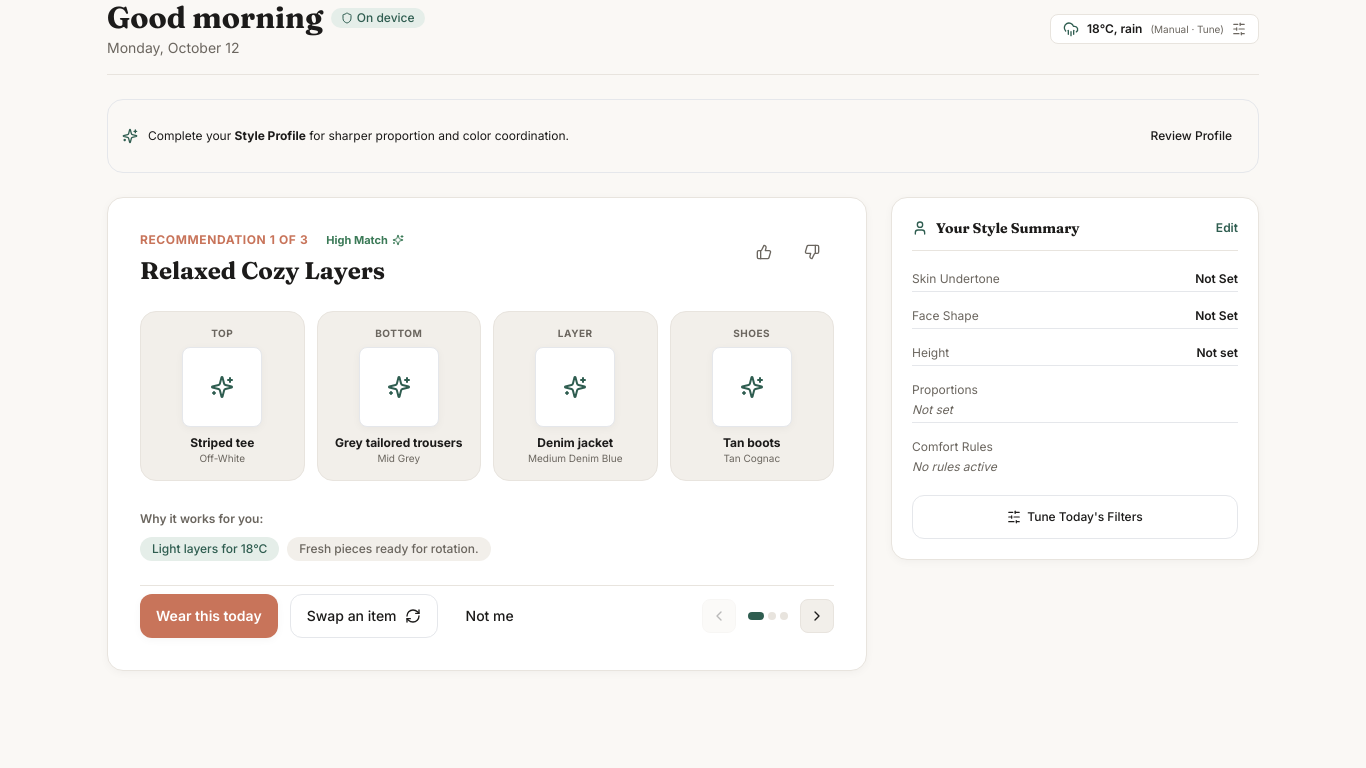
Test: Phase 5: Today Screen & Recommendation Flows › opens Tune Picks sheet and updates weather/occasion criteria
Expected: the text "18°C, rain" is shown, [1087,21,1142,37]
Click the button "18°C, rain (Manual · Tune)": coordinates (1154, 29) [1050,14,1259,44]
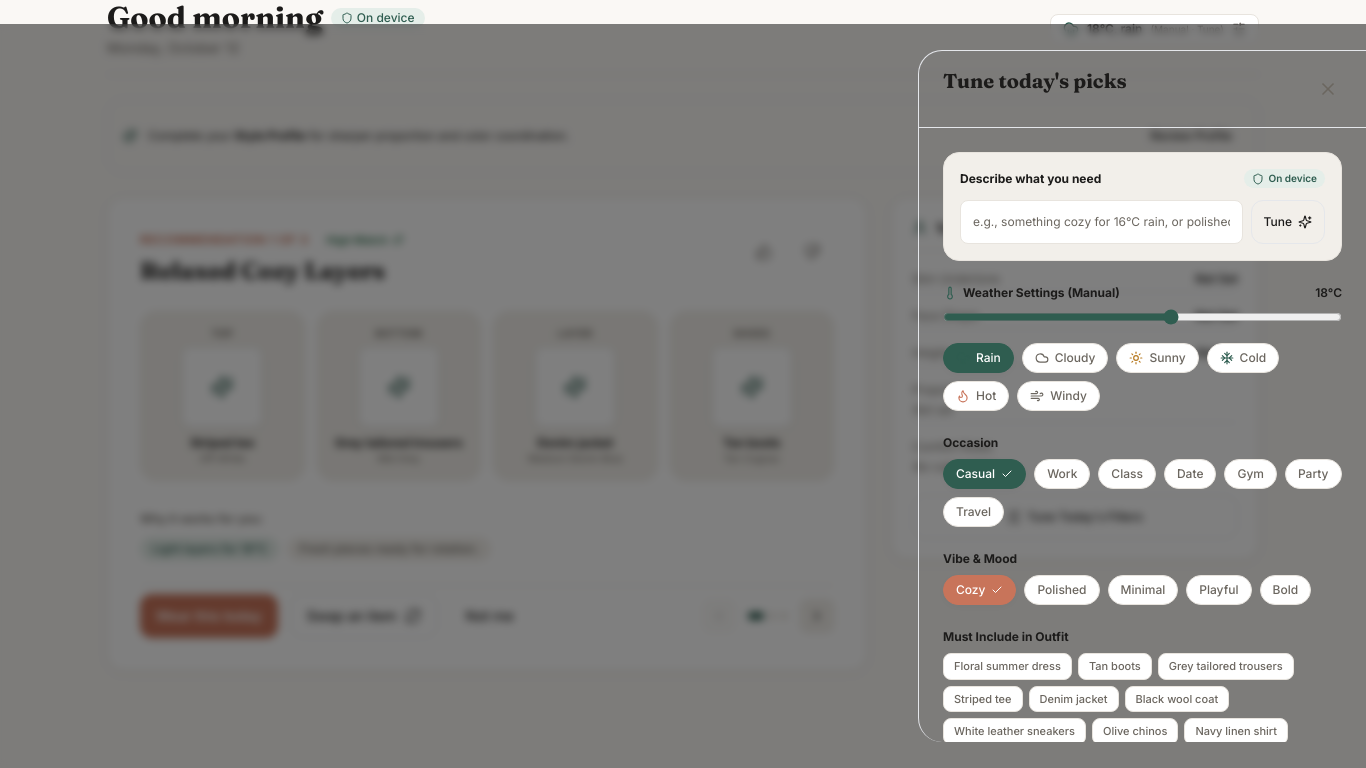
Expected: the heading "Tune today's picks" is shown, [943,67,1127,95]
Expected: the text "Describe what you need" is shown, [960,171,1101,187]
// Change to Sunny
Click the button "Sunny": coordinates (1158, 358) [1116,343,1199,373]
(page scrolled)
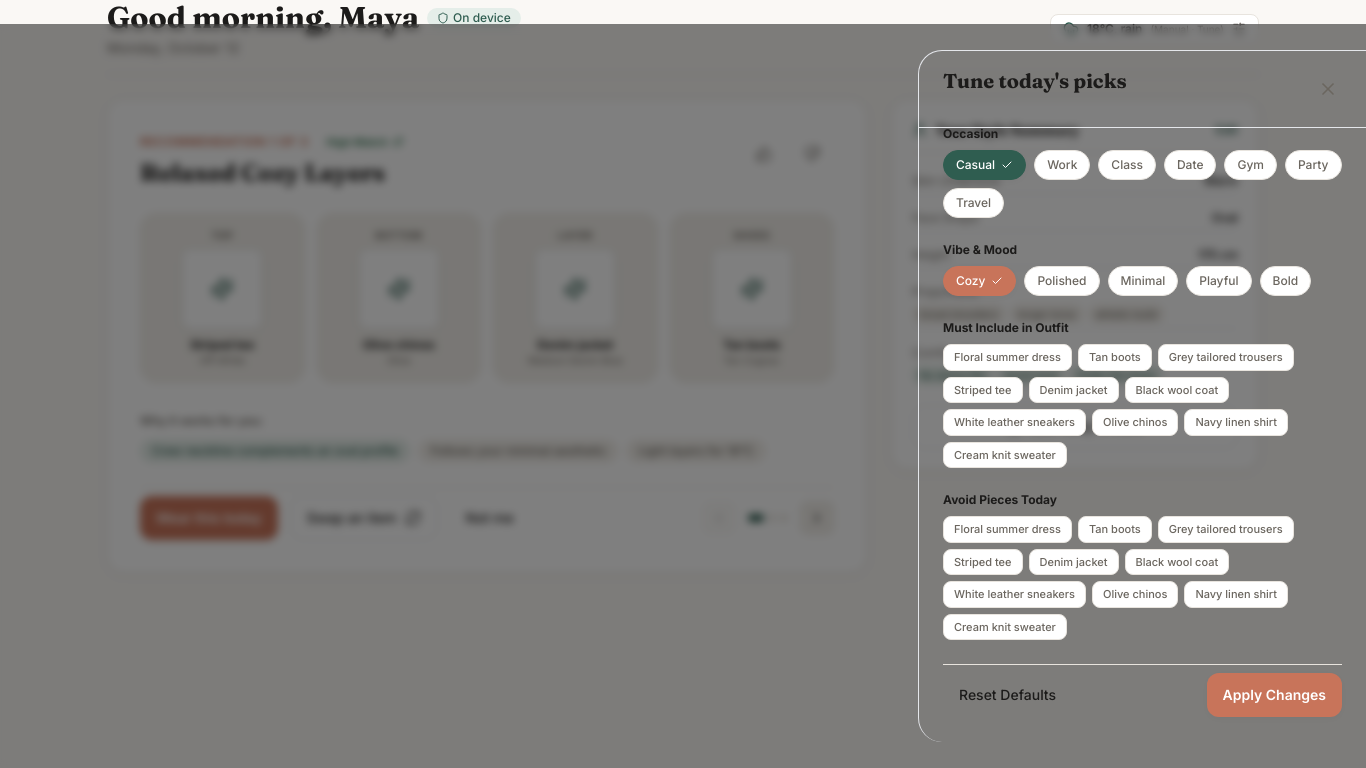
Click the button "Apply Changes": coordinates (1274, 695) [1207,673,1342,717]
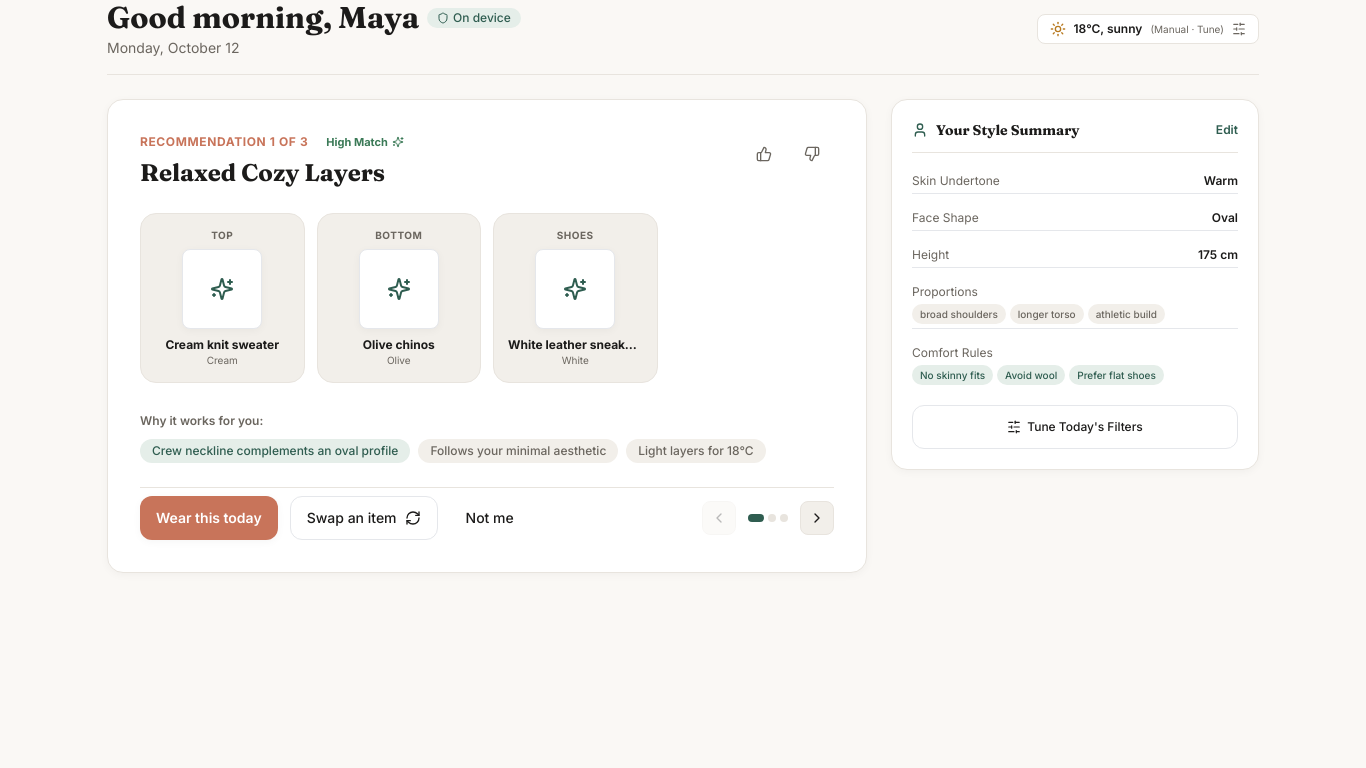
Expected: the text "18°C, sunny" is shown, [1074,21,1142,37]
